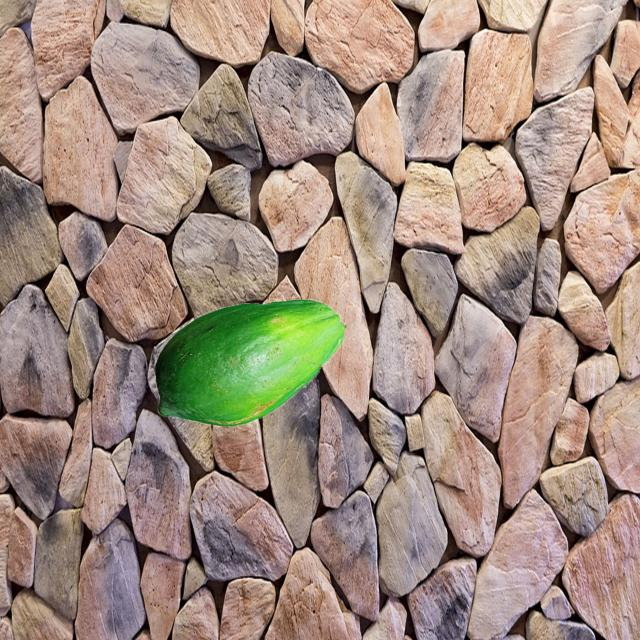Pepaya unrippen: (141, 296, 350, 432)
